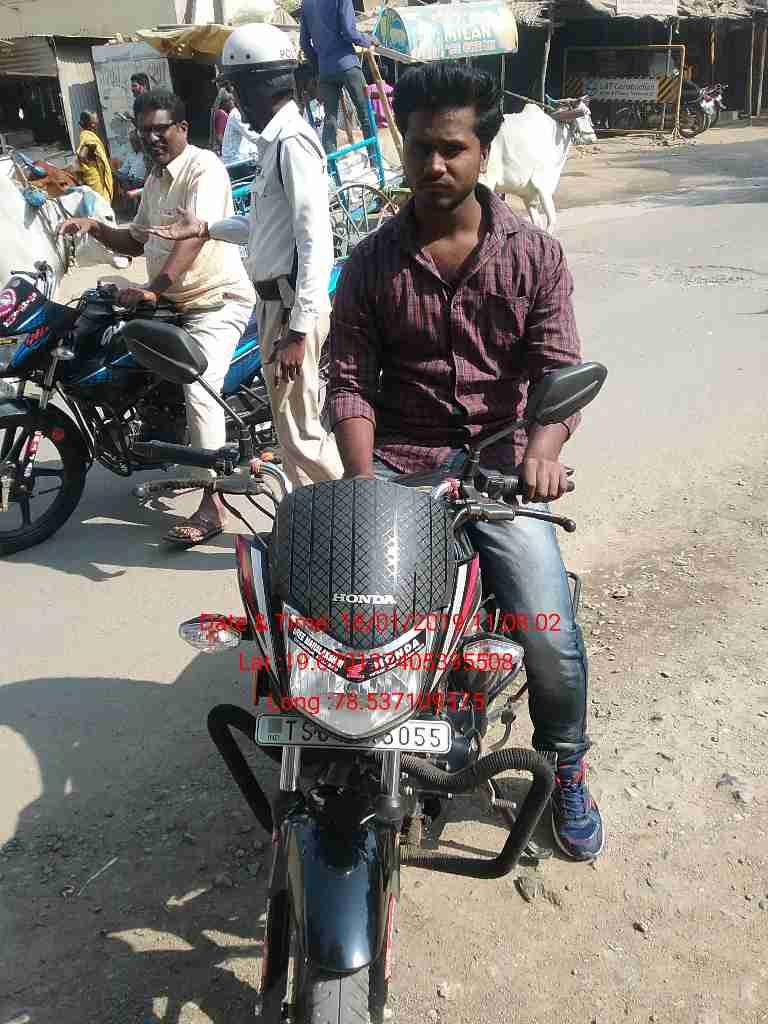without_helmet: (230, 78, 638, 1018), (6, 70, 327, 546)
